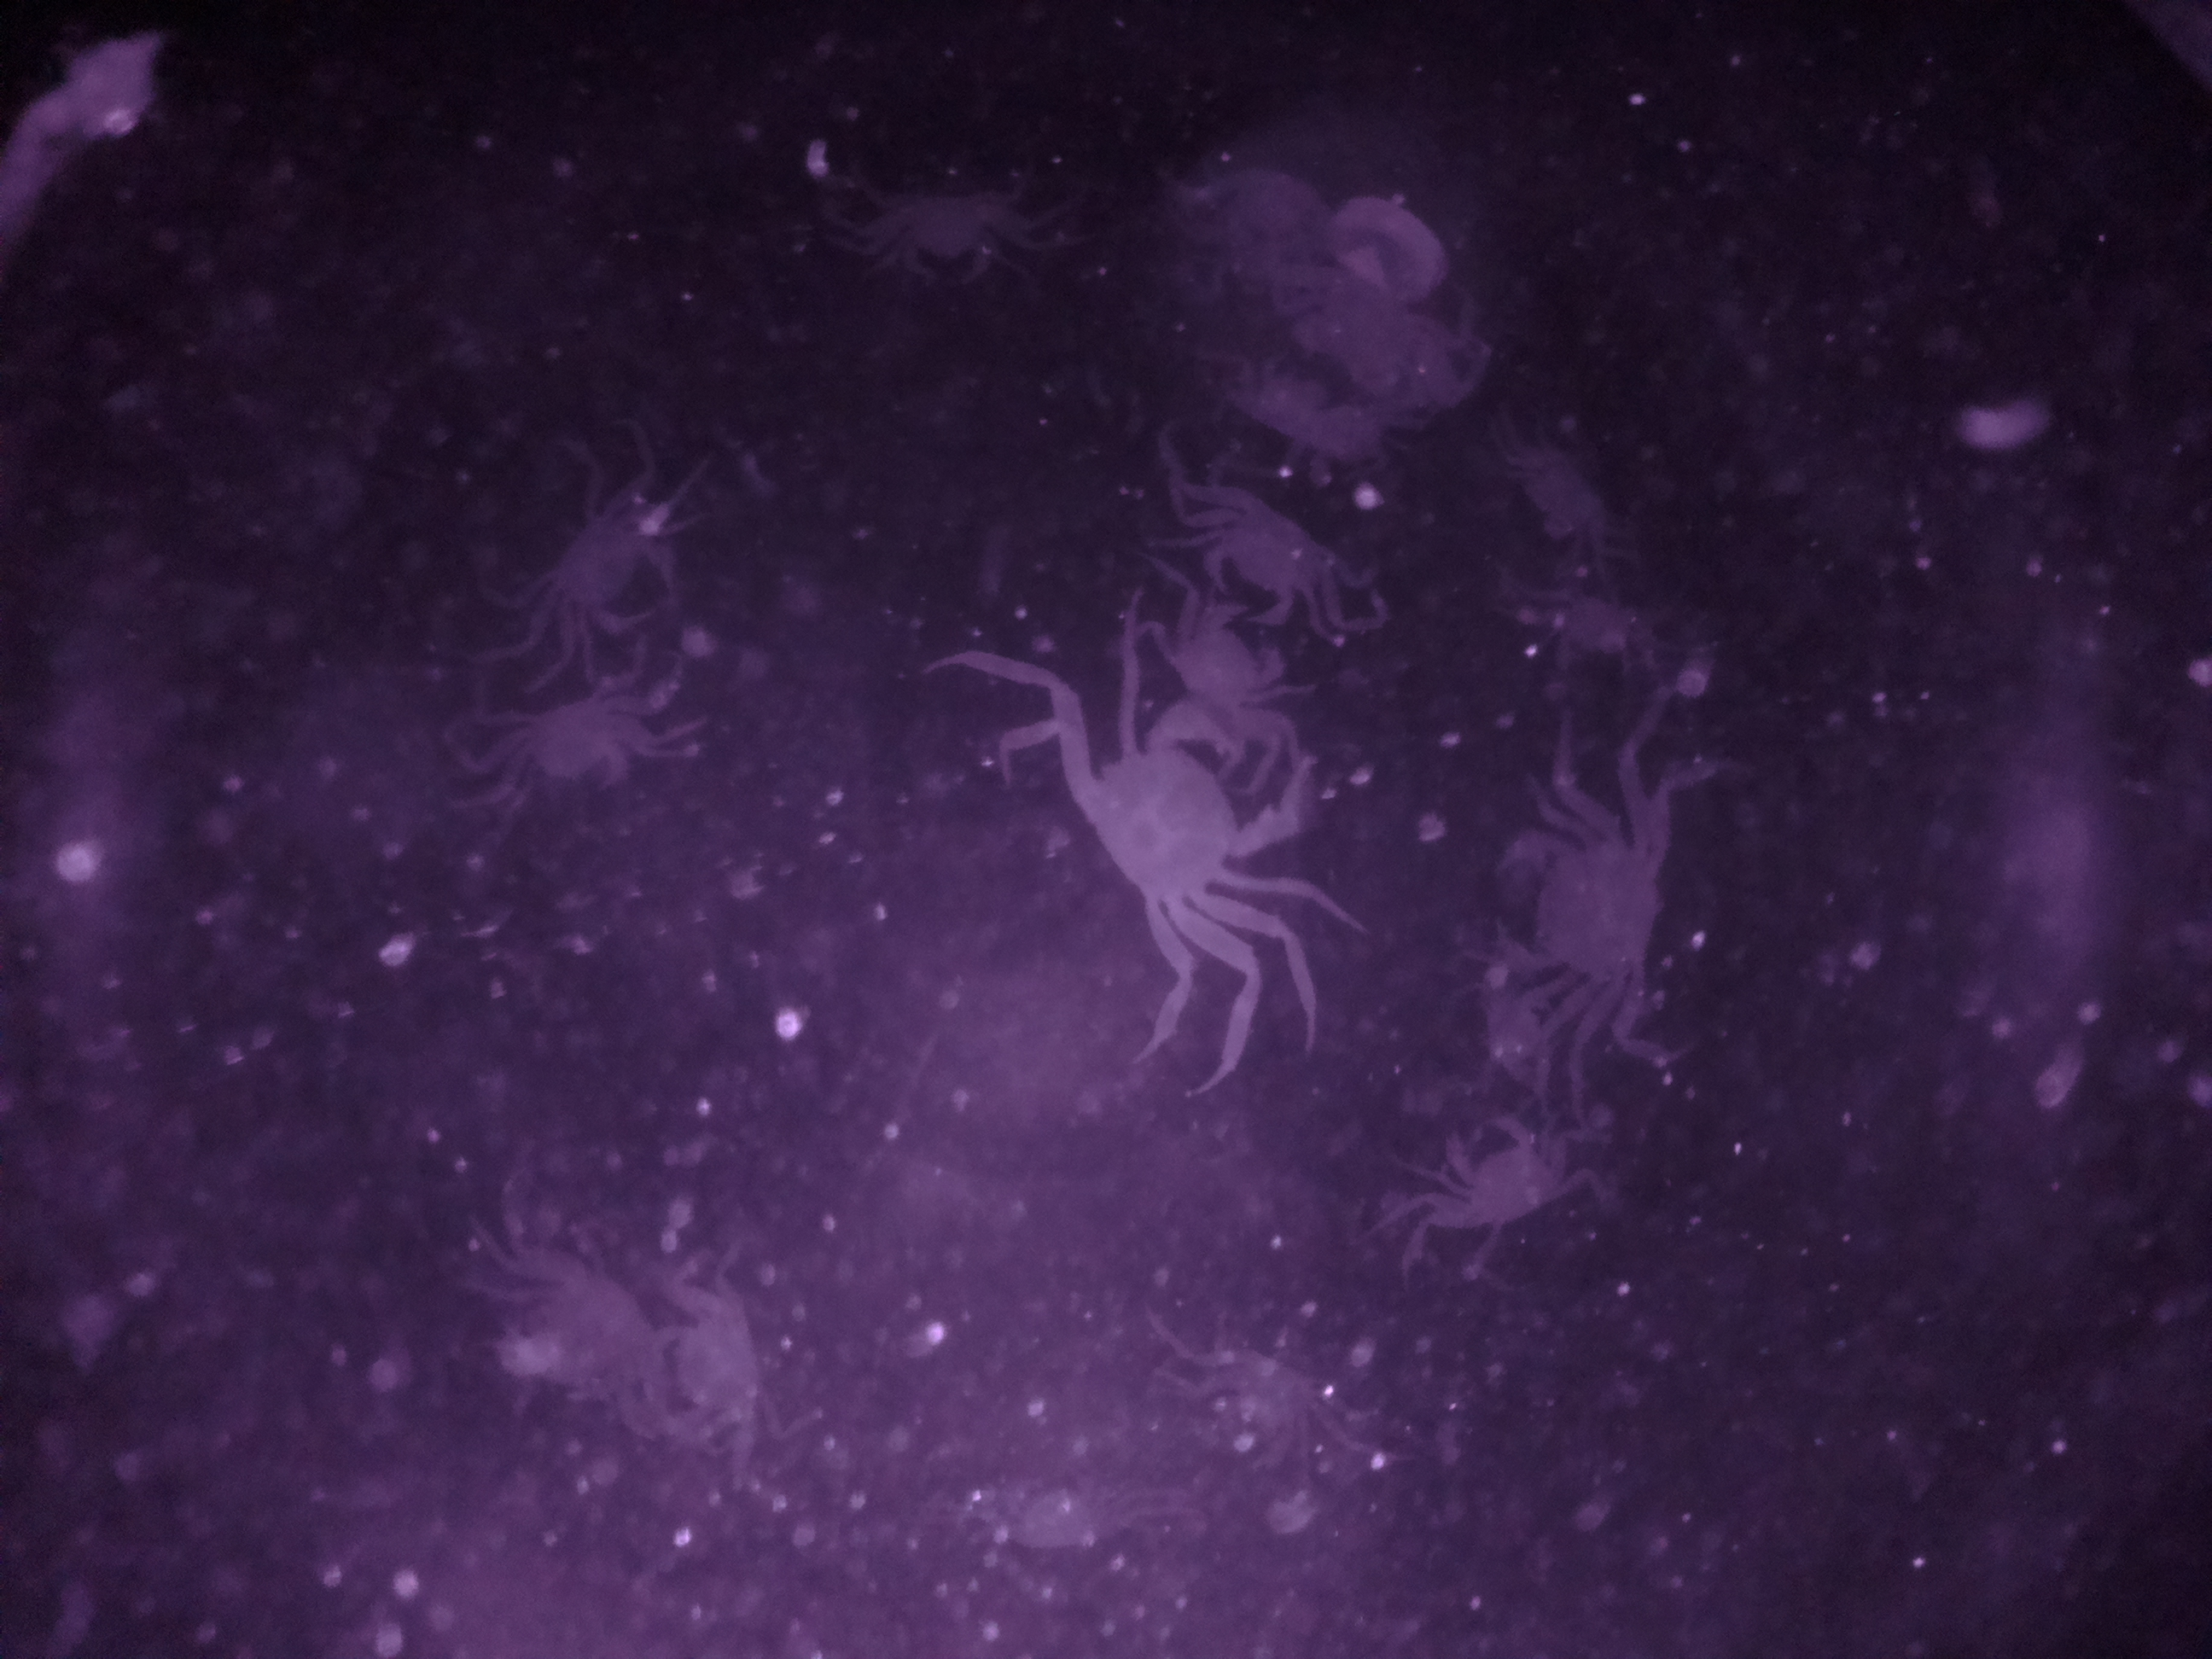Crab: (1042, 692, 1346, 939), (1470, 796, 1689, 1023), (1165, 476, 1362, 647), (524, 472, 698, 662), (1402, 1098, 1587, 1248), (853, 162, 1038, 303)
